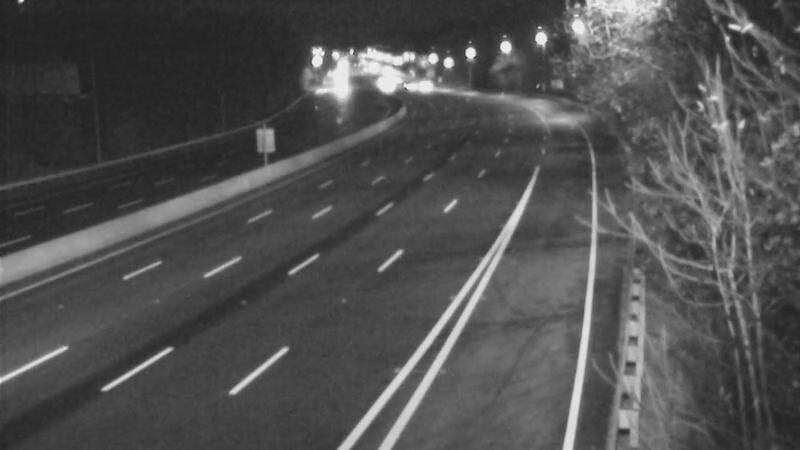vehicle: (394, 58, 444, 108), (361, 58, 411, 108)
